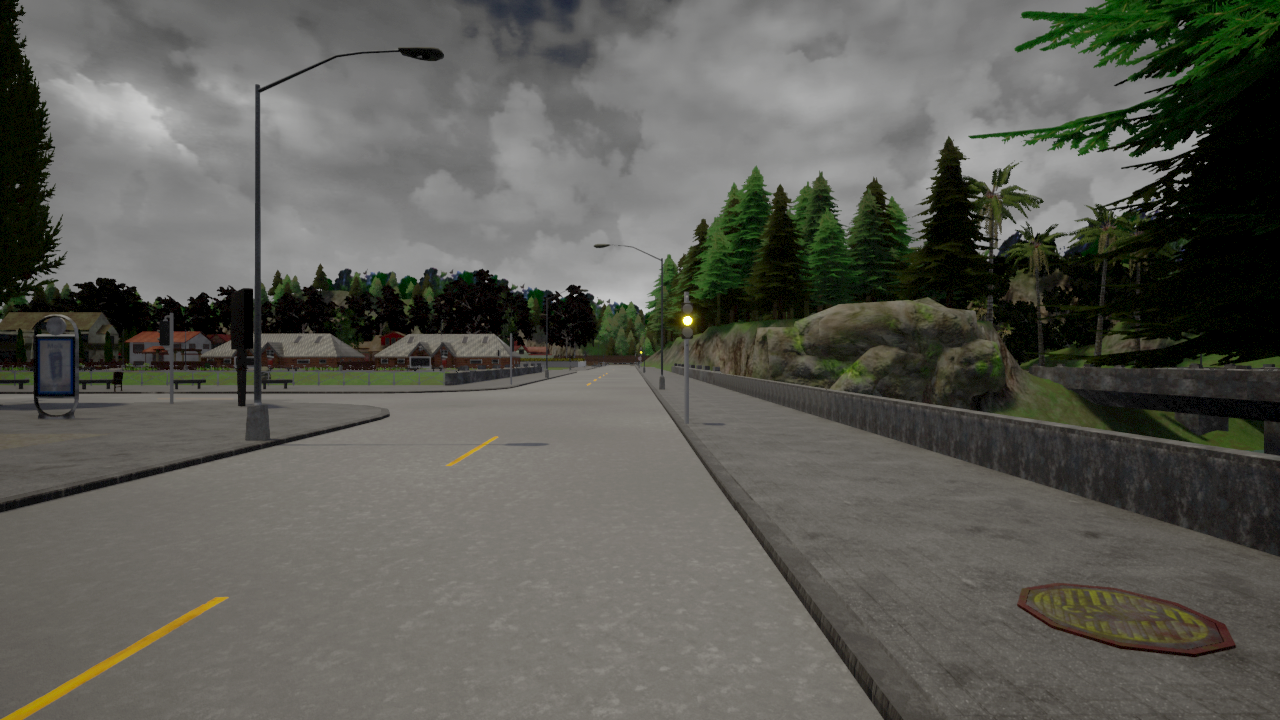yellow: (681, 303, 695, 341)
